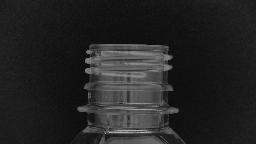No Cap: (74, 38, 182, 118)
